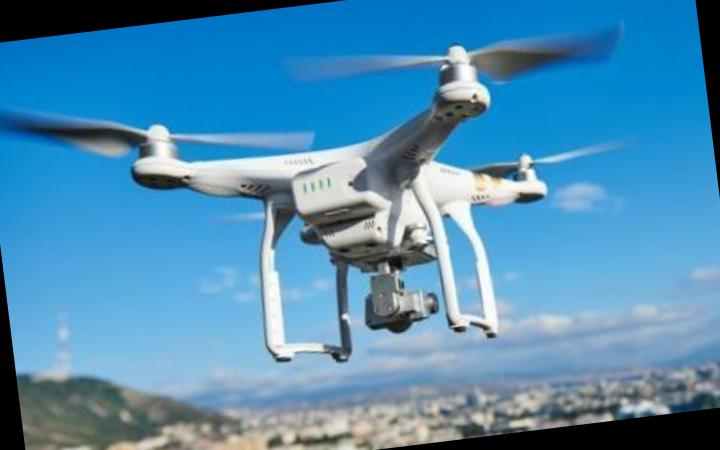drone: (39, 0, 658, 339)
